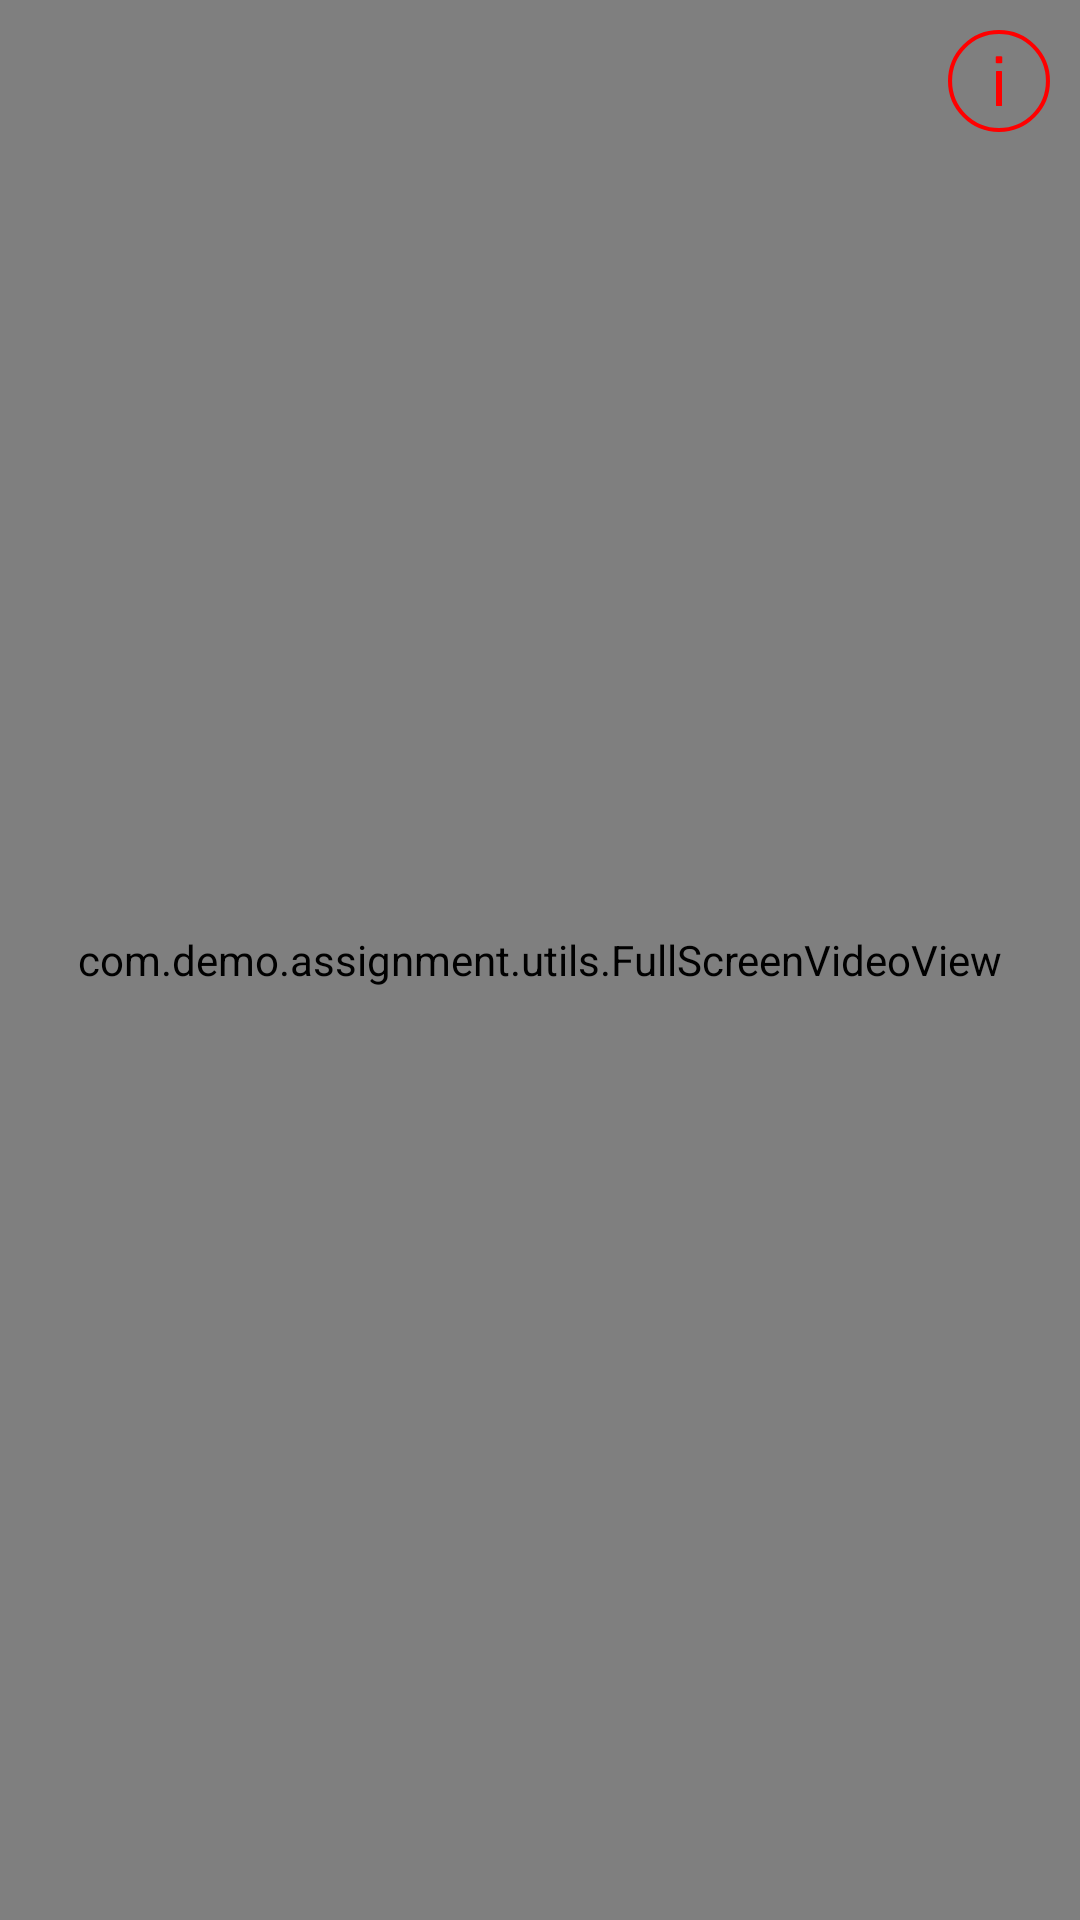

Screen size 1080px x 1920px. Icon name, then its center in pixels as point (x, y):
info: point (999, 81)
